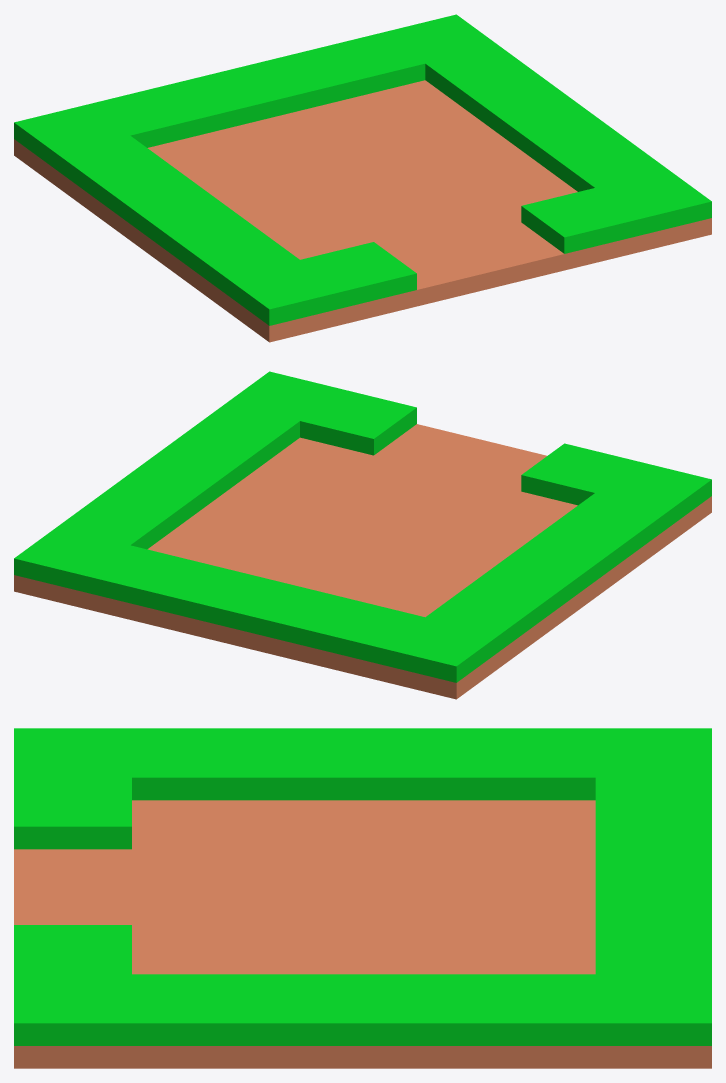
Rendered from SoilDeadlock.fbx.
3 views of the same model, one above another, from view 1: azimuth 30°, elevation 25°; view 2: azimuth 150°, elevation 25°; view 3: azimuth 270°, elevation 25° (orthographic). The views are drawn at different scales.
Visible parts, largest first — view 1: Soil; view 2: Soil; view 3: Soil.
Part boxes in pixels (box(x1,y1,x2,y2)): Soil: box(14, 14, 711, 342); Soil: box(14, 371, 711, 699); Soil: box(14, 728, 711, 1068).
Size of the model in its own units: 560 by 560 by 40.
